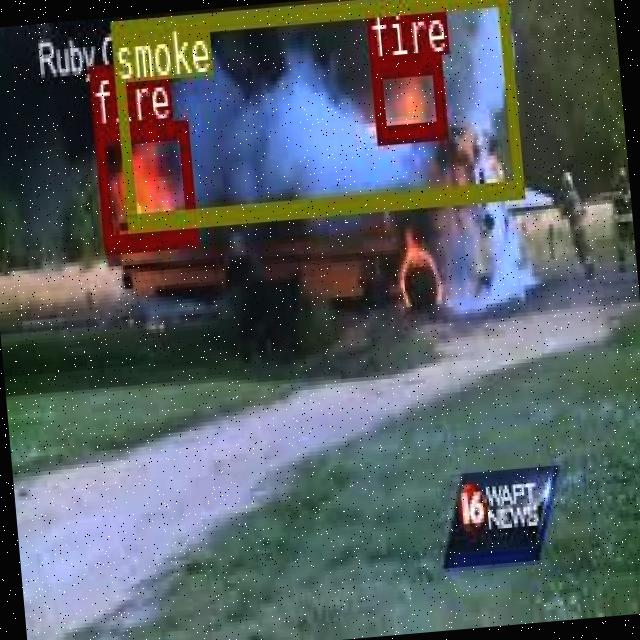fire: (92, 119, 195, 250), (369, 52, 444, 142)
smoke: (107, 0, 522, 229)
